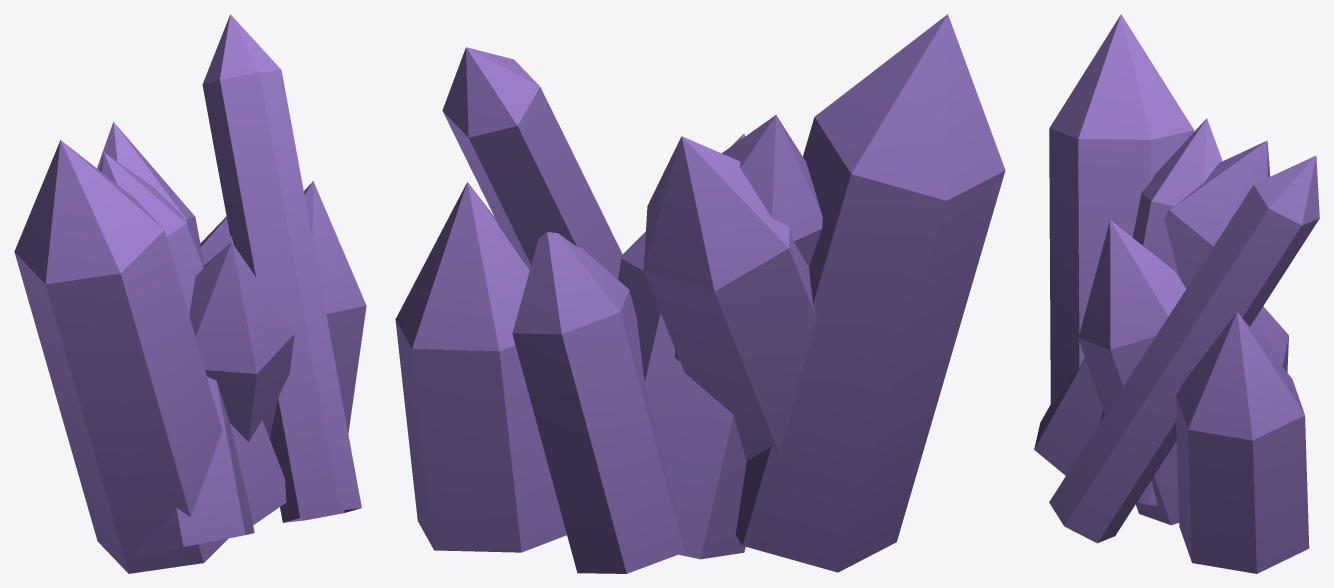
File: crystals_a.glb
3 views of the same model, side by side, from view 1: azimuth 30°, elevation 25°; view 2: azimuth 150°, elevation 25°; view 3: azimuth 270°, elevation 25° (orthographic). The views are drawn at different scales.
Visible parts, largest first — view 1: Crystals_deco; view 2: Crystals_deco; view 3: Crystals_deco.
Part boxes in pixels (x1=…): Crystals_deco: x1=14, y1=14, x2=366, y2=573; Crystals_deco: x1=395, y1=14, x2=1005, y2=573; Crystals_deco: x1=1034, y1=14, x2=1319, y2=573.
Size of the model in its own units: 2.26 by 2.43 by 1.51.
